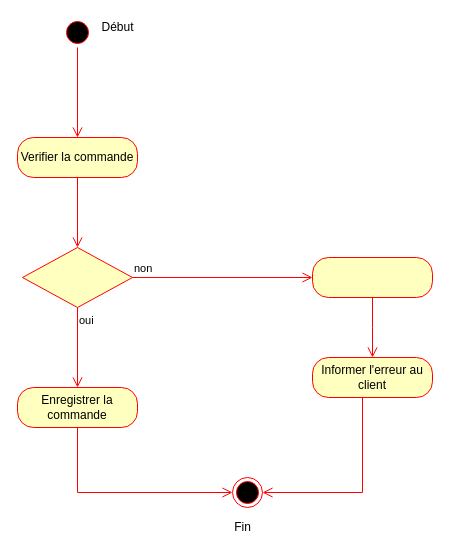
The diagram is 450 pixels wide and 555 high, and some of its shapes have lost their labels. The shapes that lost their labels are listed below. From the top down, each one's centre as x and y in pixels, then its label:
point 77,277: valide
point 372,277: Rejeter la commande
